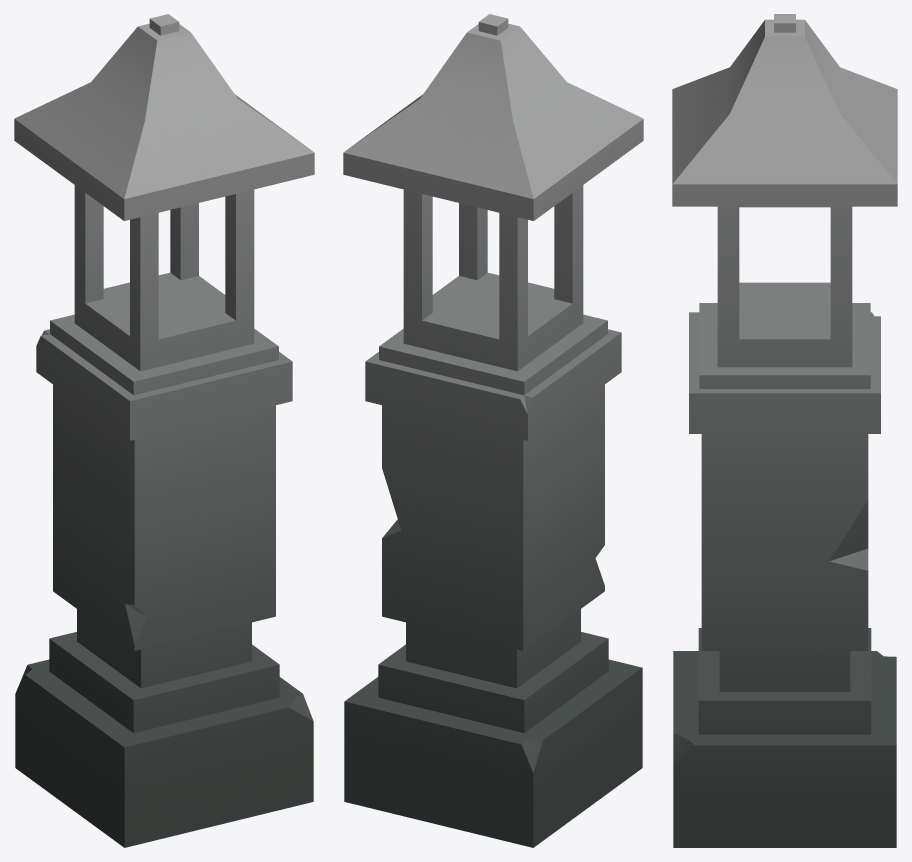
The model's file is Light_1.fbx.
3 renders of one model, left to right at view 1: azimuth 30°, elevation 25°; view 2: azimuth 150°, elevation 25°; view 3: azimuth 270°, elevation 25°, orthographic. The views are drawn at different scales.
Parts seen in each view (by area): view 1: Lights; view 2: Lights; view 3: Lights.
Boxes of the visible parts, x1,y1,x2,y2 form: Lights: (14, 14, 314, 847); Lights: (343, 14, 643, 847); Lights: (672, 14, 897, 847).
Size of the model in its own units: 0.4505 by 1.73 by 0.4505.
